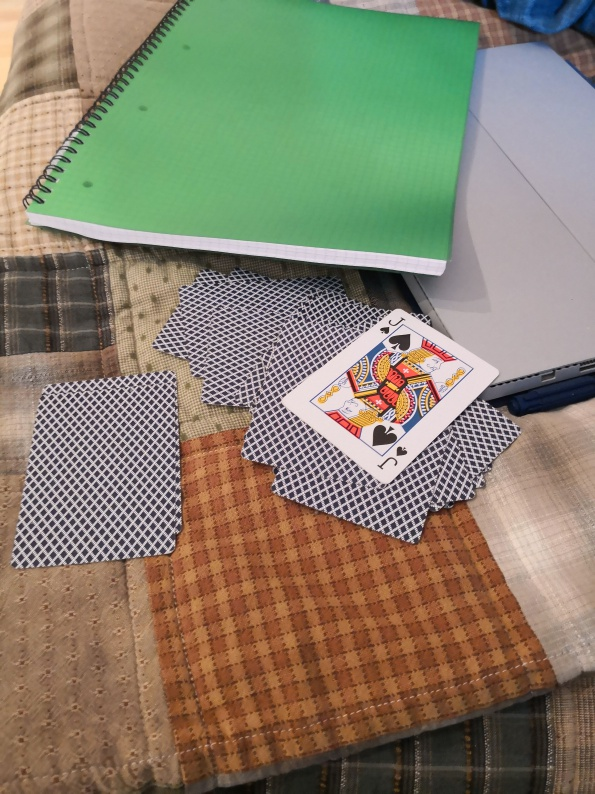jack: (278, 306, 501, 487)
